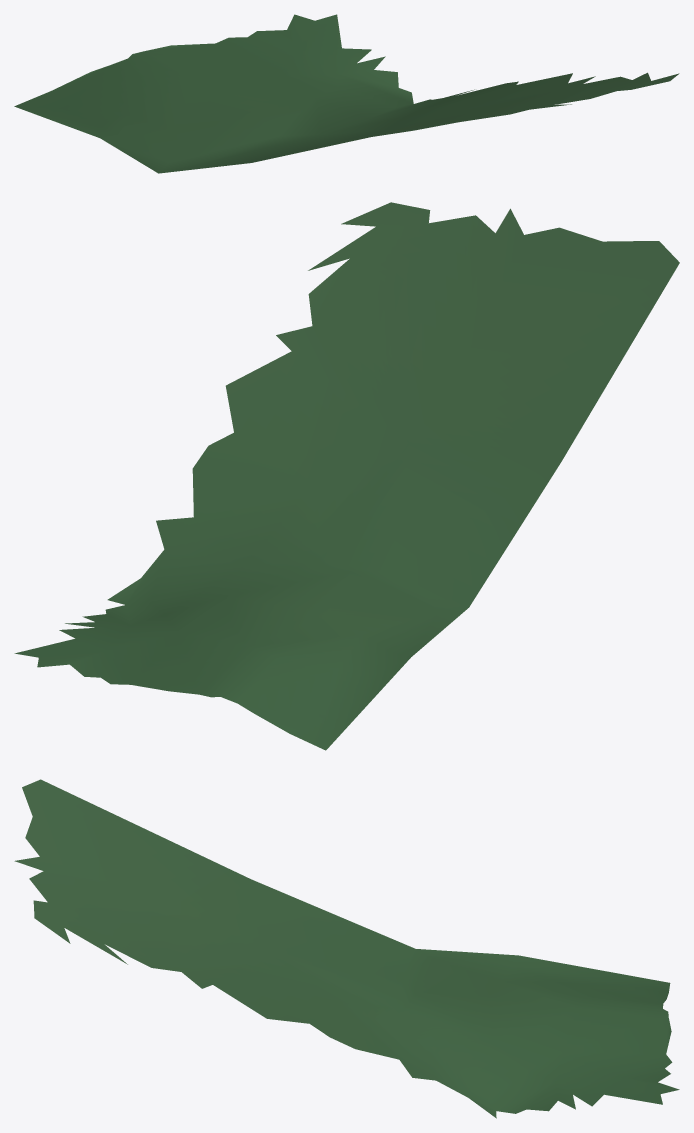
The model's file is payo_land_x4_y9_lod2.glb.
3 views of the same model, one above another, from view 1: azimuth 30°, elevation 25°; view 2: azimuth 150°, elevation 25°; view 3: azimuth 270°, elevation 25° (orthographic). The views are drawn at different scales.
Visible parts, largest first — view 1: payo_land_x4_y9; view 2: payo_land_x4_y9; view 3: payo_land_x4_y9.
Boxes of the visible parts, <box> form: payo_land_x4_y9: <box>14,14,679,173</box>; payo_land_x4_y9: <box>14,202,679,750</box>; payo_land_x4_y9: <box>14,779,679,1118</box>.
Size of the model in its own units: 135 by 92.75 by 268.
